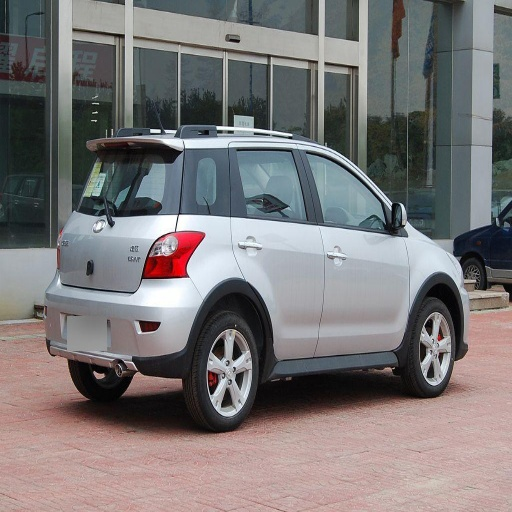back_bumper: (43, 276, 203, 376)
back_right_door: (228, 142, 324, 358)
trunk: (57, 220, 166, 290)
